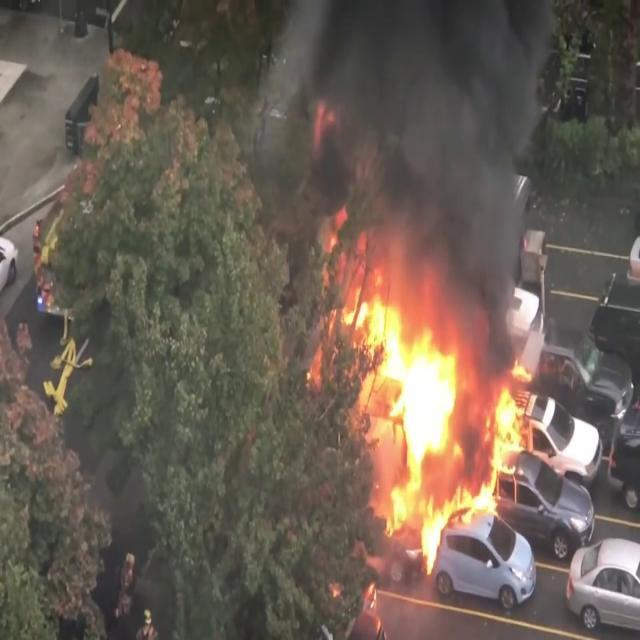Fire: (331, 268, 537, 552)
Smoke: (314, 0, 562, 304)
